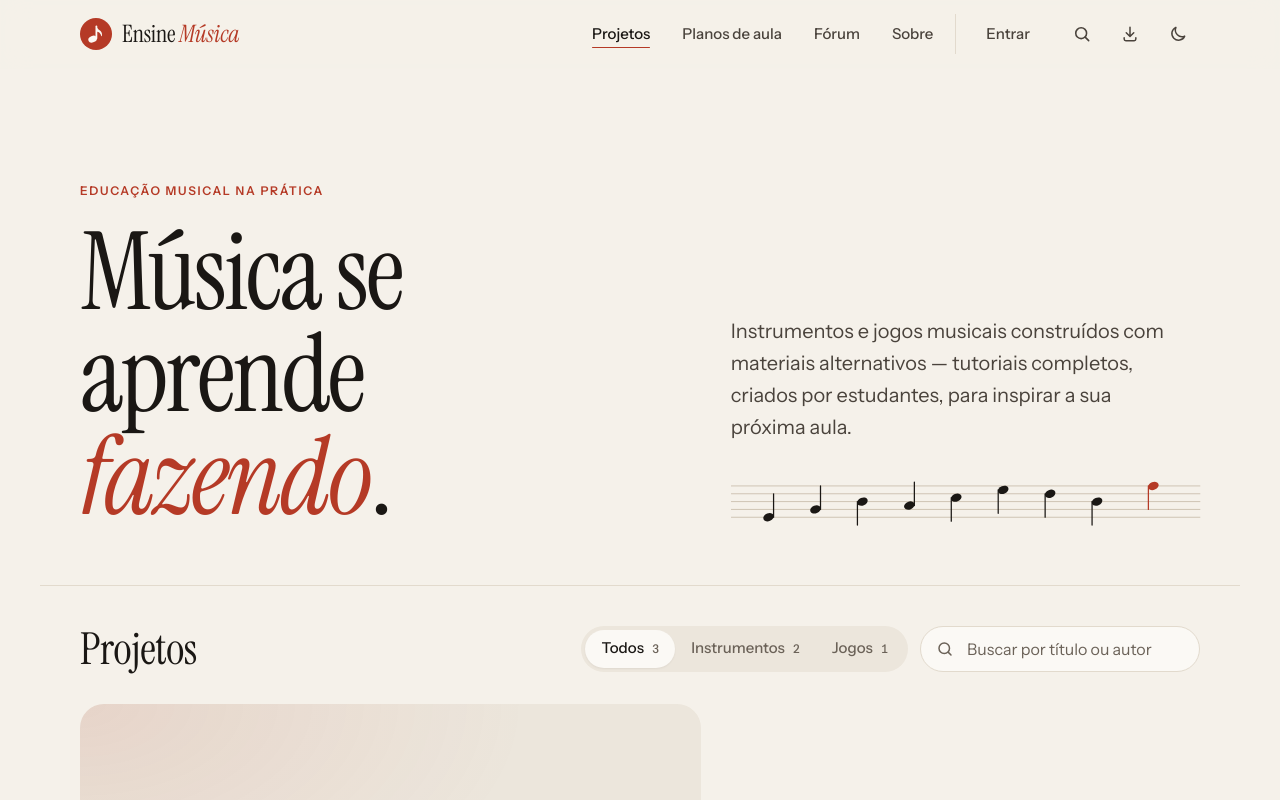
Scenario: página inicial › filtra por tipo de projeto
Click the button "Jogos 1" at (860, 649), box x1=816 y1=630 x2=904 y2=668
(page scrolled)
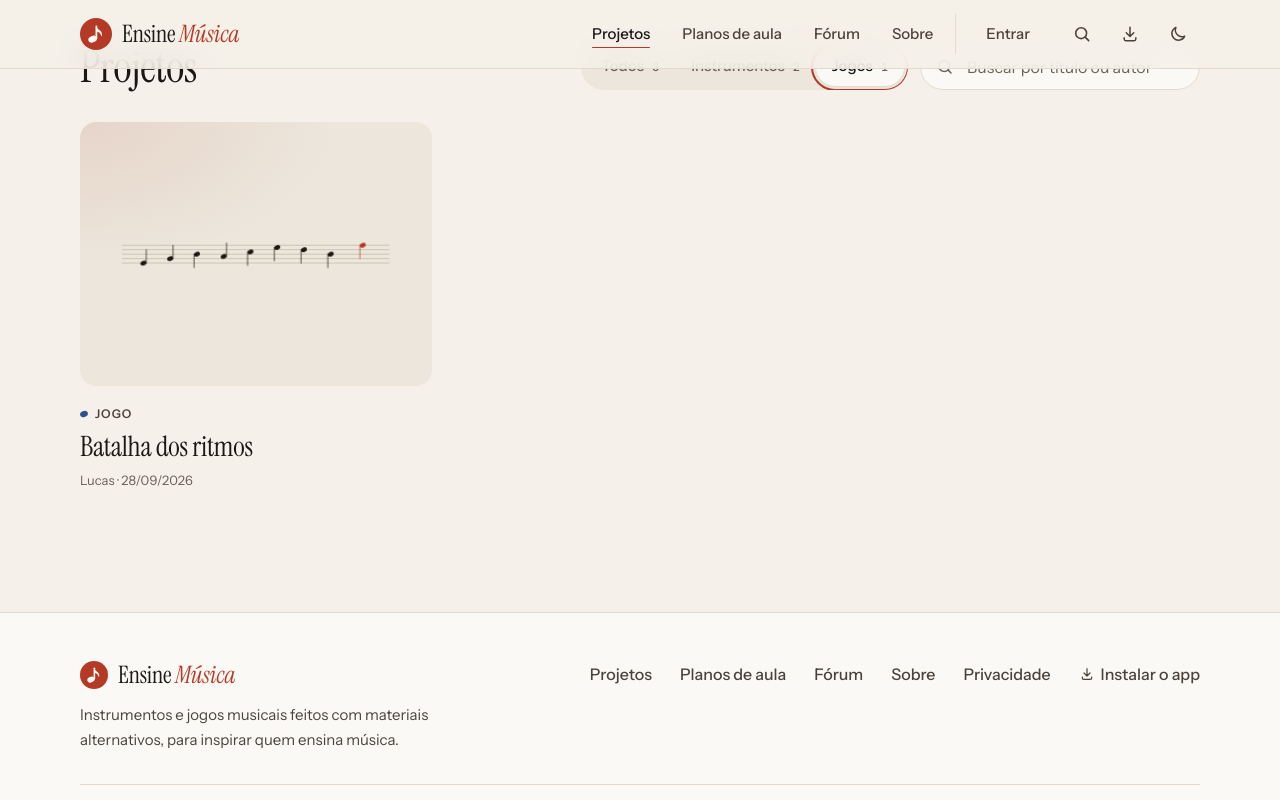
Expected: the text "Batalha dos ritmos" is shown, x1=80 y1=428 x2=253 y2=465
